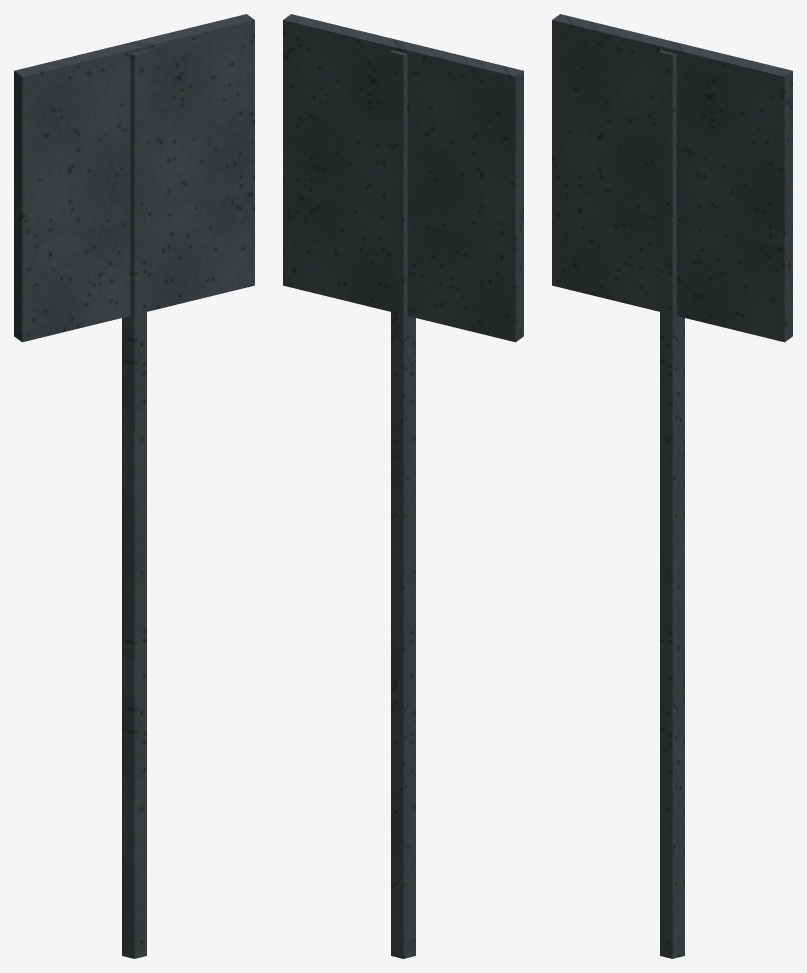
The model's file is PROP-D11A3014691B_lod2.glb.
3 views of the same model, side by side, from view 1: azimuth 30°, elevation 25°; view 2: azimuth 150°, elevation 25°; view 3: azimuth 330°, elevation 25° (orthographic).
Visible parts, largest first — view 1: sign_plate.017, sign_post.024; view 2: sign_plate.017, sign_post.024; view 3: sign_plate.017, sign_post.024.
Boxes of the visible parts, x1,y1,x2,y2 form: sign_plate.017: (14,14,254,342); sign_post.024: (122,50,146,958); sign_plate.017: (283,14,523,342); sign_post.024: (391,50,415,958); sign_plate.017: (552,14,792,342); sign_post.024: (660,50,684,958).
Size of the model in its own units: 0.66 by 2.46 by 0.0606.
Materials: 1 (1 with a texture image).
